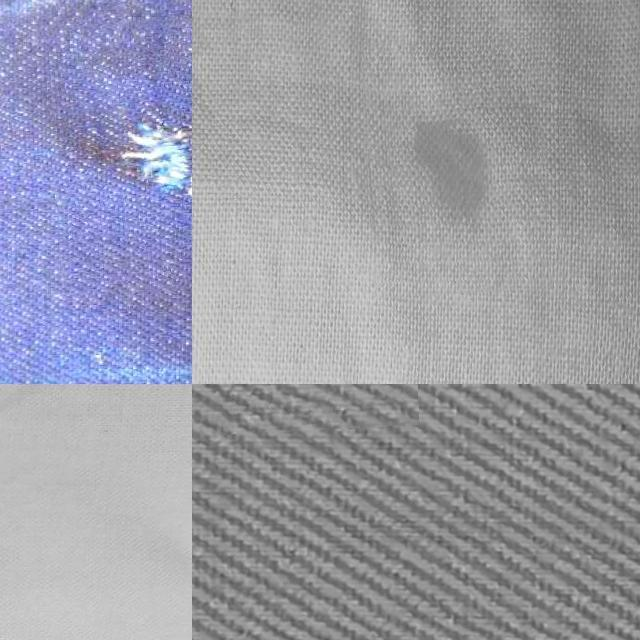Hole: (364, 36, 548, 295)
Thread_other: (50, 14, 192, 291)
seam: (216, 384, 417, 431)
